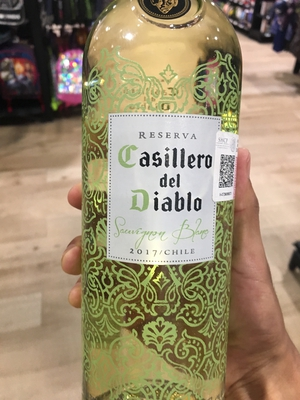casillero del diablo sauvignon blanc: (78, 18, 242, 400)
